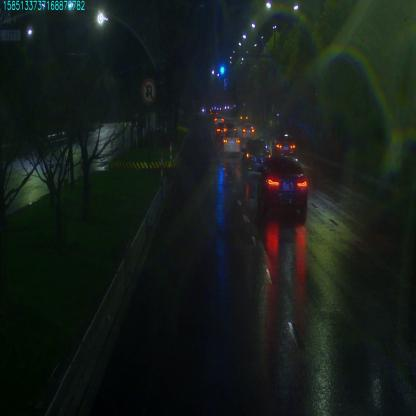traffic-light: (219, 63, 226, 76)
